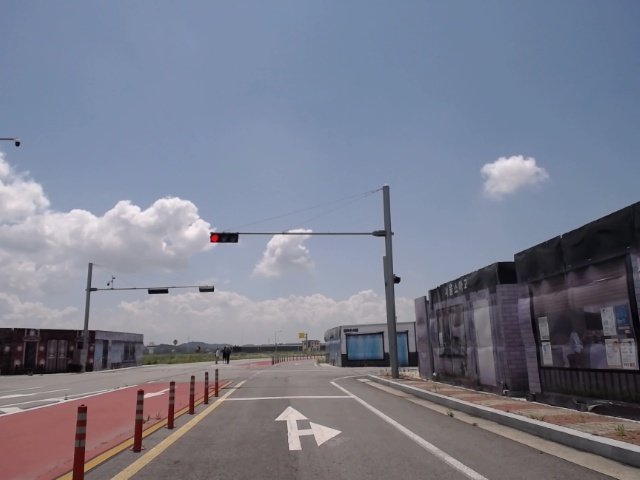red_3: (211, 232, 241, 243)
